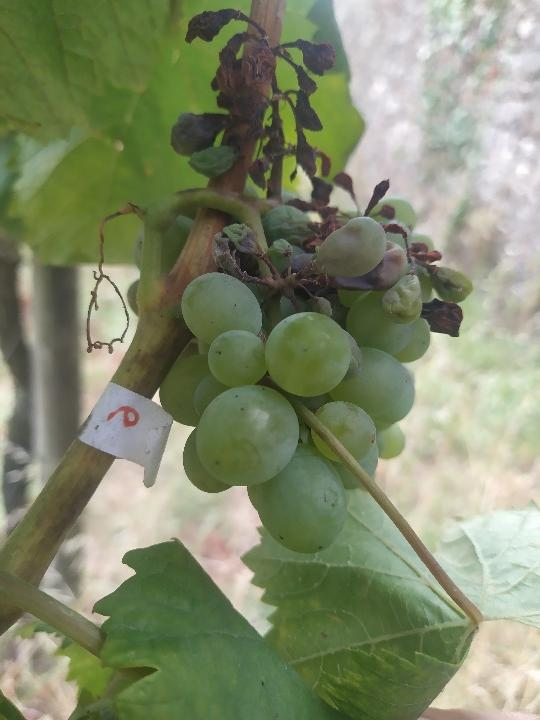grape: (167, 3, 475, 560)
